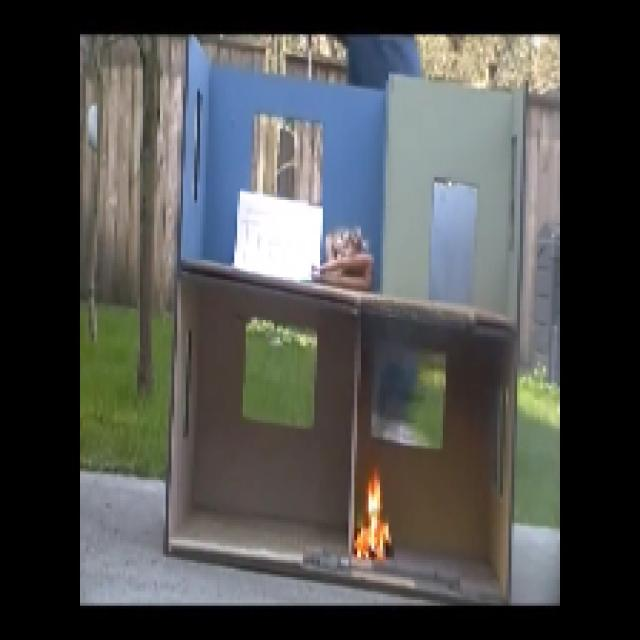fire: (354, 482, 396, 568)
